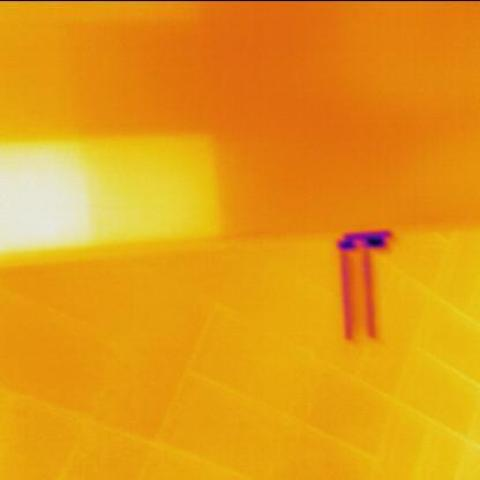fault: (0, 147, 82, 245)
